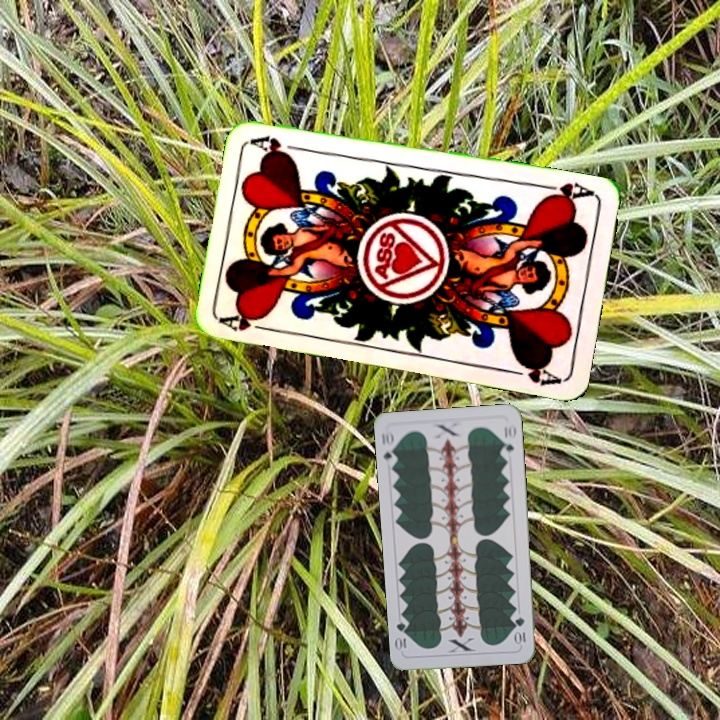G10: (377, 427, 399, 468), (511, 613, 528, 647)
HA: (537, 178, 596, 206), (218, 307, 277, 335)
